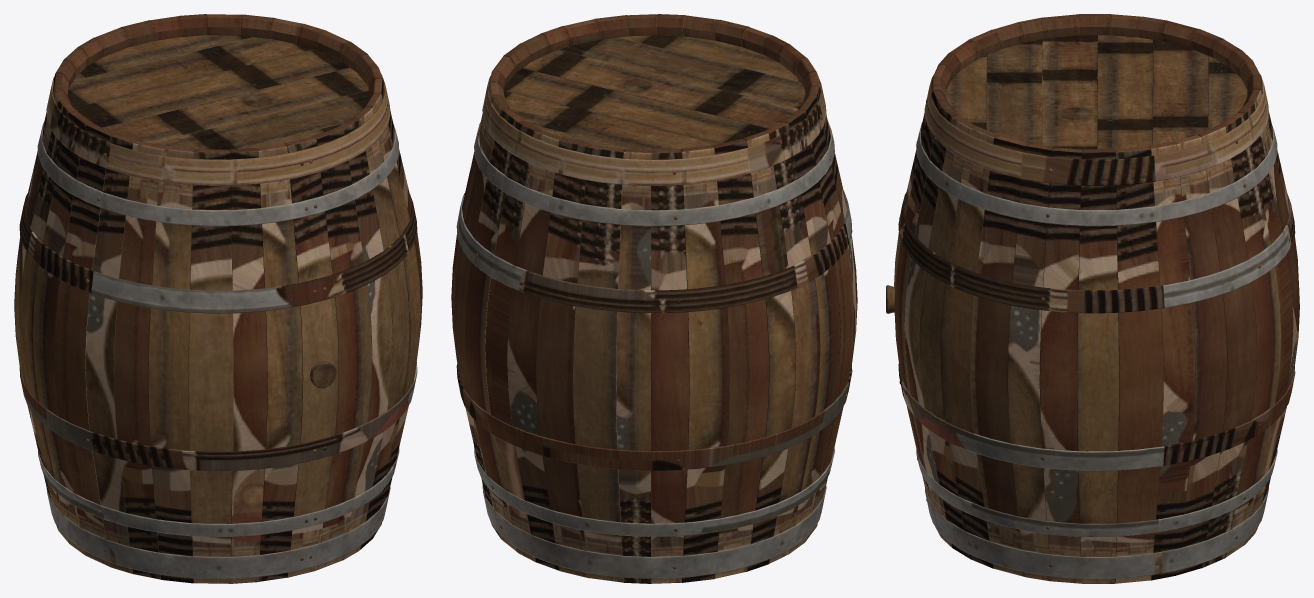
File: wine_barrel_01_1k.gltf
3 renders of one model, left to right at view 1: azimuth 30°, elevation 25°; view 2: azimuth 150°, elevation 25°; view 3: azimuth 270°, elevation 25°, orthographic.
Parts seen in each view (by area): view 1: wine_barrel_01, wine_barrel_01_Lid, wine_barrel_01_bung; view 2: wine_barrel_01, wine_barrel_01_Lid; view 3: wine_barrel_01, wine_barrel_01_Lid.
Boxes of the visible parts, bbox=[...] form: wine_barrel_01: bbox=[14, 14, 422, 583]; wine_barrel_01_Lid: bbox=[67, 35, 368, 149]; wine_barrel_01_bung: bbox=[310, 361, 336, 388]; wine_barrel_01: bbox=[451, 14, 857, 583]; wine_barrel_01_Lid: bbox=[503, 35, 805, 152]; wine_barrel_01: bbox=[894, 14, 1299, 583]; wine_barrel_01_Lid: bbox=[946, 35, 1247, 149].
Bounding box in the file's own units: 0.7419 × 0.8713 × 0.756.
Materials: 1 (1 with a texture image).
